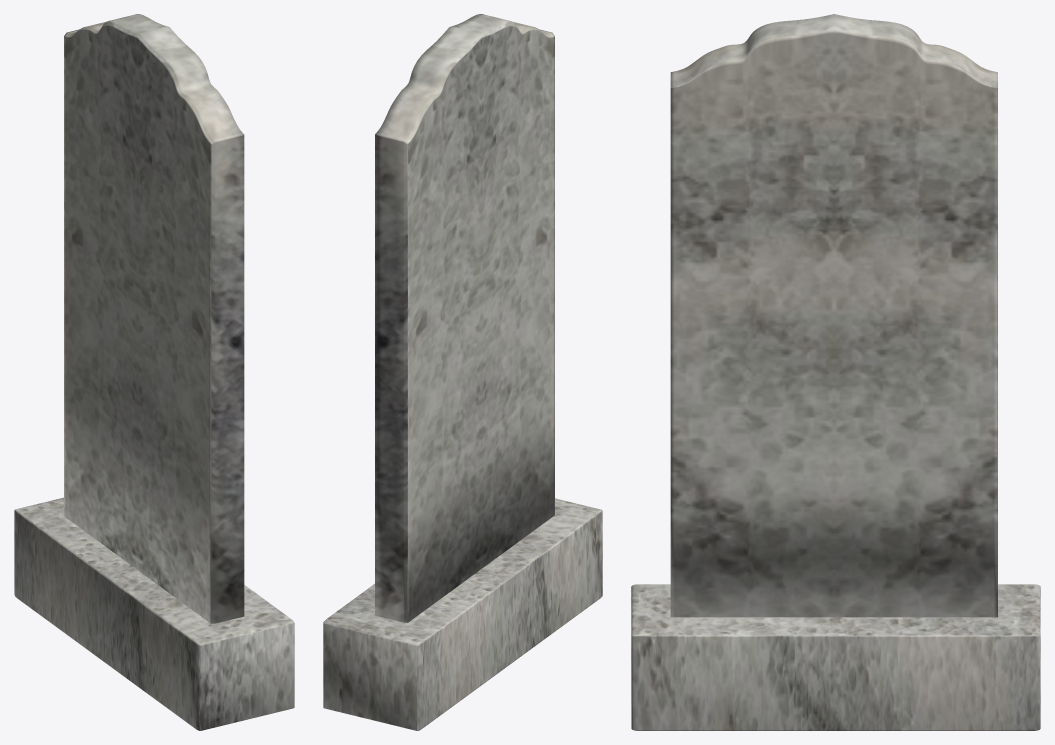
File: Мус 2 [marble_1_muslim] (80).glb
The picture shows the model from 3 angles, left to right: view 1: azimuth 30°, elevation 25°; view 2: azimuth 150°, elevation 25°; view 3: azimuth 270°, elevation 25°; orthographic projection. The views are drawn at different scales.
Visible parts, largest first — view 1: Cube, Куб.003; view 2: Cube, Куб.003; view 3: Cube, Куб.003.
Part boxes in pixels (x1,y1,x2,y2): Cube: [64, 14, 244, 623]; Куб.003: [14, 497, 294, 730]; Cube: [375, 14, 554, 622]; Куб.003: [323, 498, 602, 730]; Cube: [670, 14, 997, 617]; Куб.003: [631, 584, 1040, 730].
Bounding box in the file's own units: 0.15 × 0.9224 × 0.5.
Materials: 1 (1 with a texture image).
